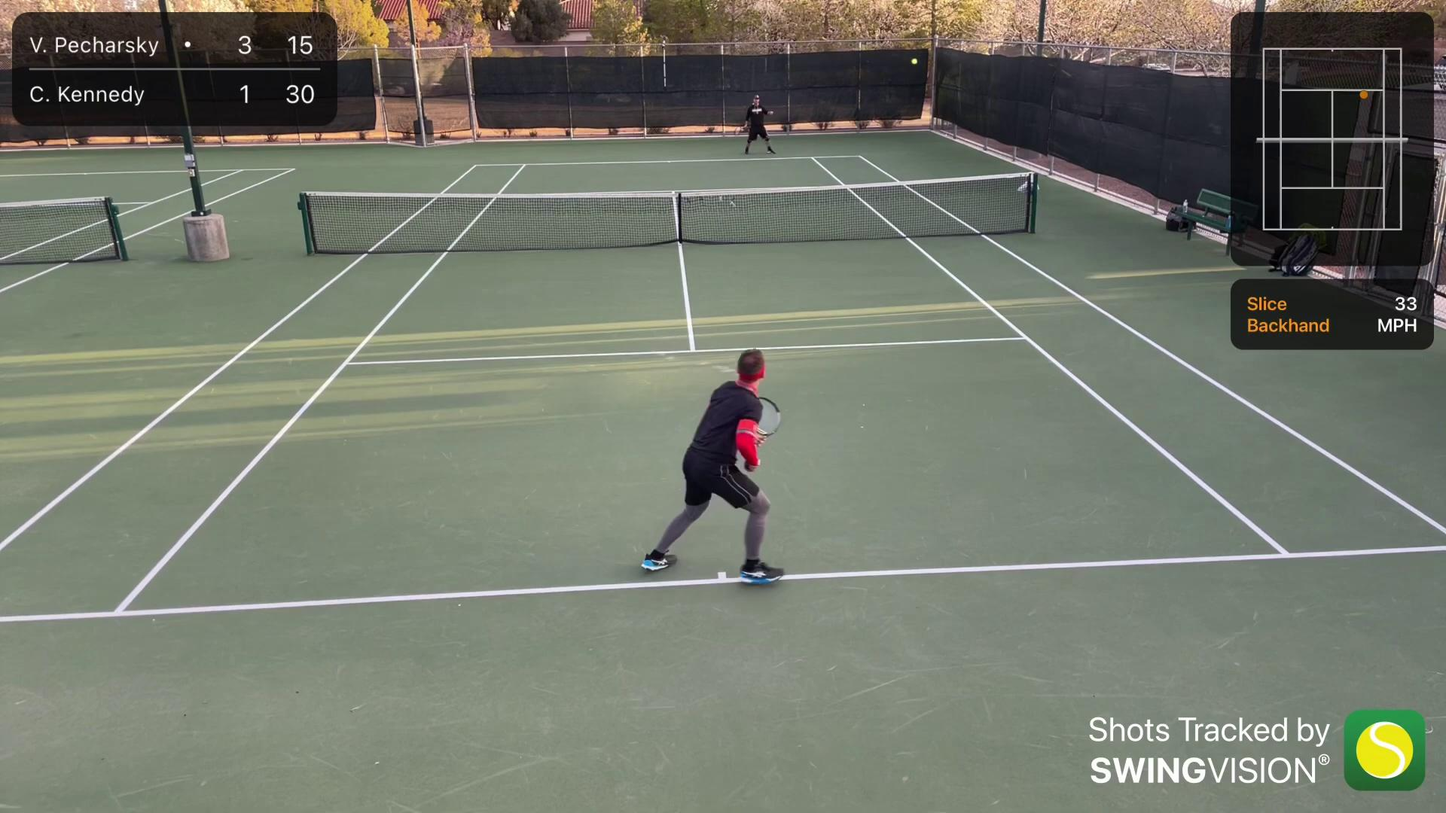ball: (914, 61, 919, 66)
